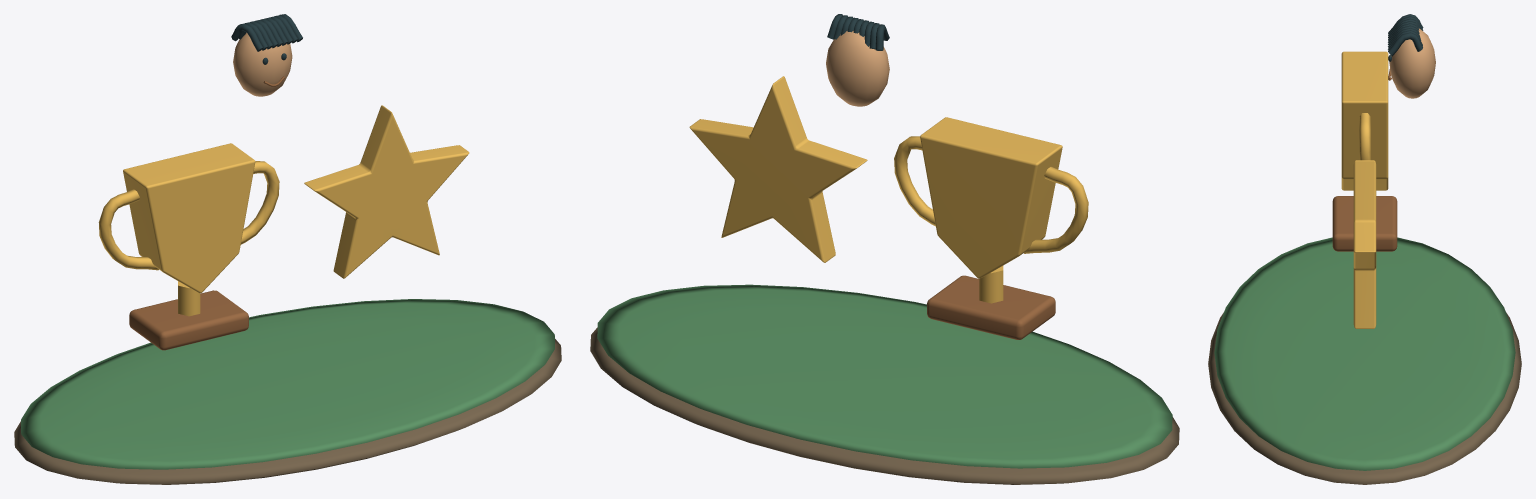
The model's file is complete-third-obtained-idea-pride.glb.
3 renders of one model, left to right at view 1: azimuth 30°, elevation 25°; view 2: azimuth 150°, elevation 25°; view 3: azimuth 270°, elevation 25°, orthographic. The views are drawn at different scales.
Visible parts, largest first — view 1: complete-third-obtained-idea-pride_surface_01, complete-third-obtained-idea-pride_surface_02, complete-third-obtained-idea-pride_surface_00, complete-third-obtained-idea-pride_surface_03, complete-third-obtained-idea-pride_surface_04, complete-third-obtained-idea-pride_surface_05; view 2: complete-third-obtained-idea-pride_surface_01, complete-third-obtained-idea-pride_surface_02, complete-third-obtained-idea-pride_surface_00, complete-third-obtained-idea-pride_surface_03, complete-third-obtained-idea-pride_surface_04, complete-third-obtained-idea-pride_surface_05; view 3: complete-third-obtained-idea-pride_surface_01, complete-third-obtained-idea-pride_surface_02, complete-third-obtained-idea-pride_surface_00, complete-third-obtained-idea-pride_surface_03, complete-third-obtained-idea-pride_surface_04, complete-third-obtained-idea-pride_surface_05.
Boxes of the visible parts, box(x1,y1,x2,y2) form: complete-third-obtained-idea-pride_surface_01: box(21, 299, 554, 469); complete-third-obtained-idea-pride_surface_02: box(98, 105, 469, 316); complete-third-obtained-idea-pride_surface_00: box(14, 339, 561, 484); complete-third-obtained-idea-pride_surface_03: box(129, 76, 284, 350); complete-third-obtained-idea-pride_surface_04: box(233, 32, 292, 96); complete-third-obtained-idea-pride_surface_05: box(231, 14, 302, 64); complete-third-obtained-idea-pride_surface_01: box(597, 284, 1172, 468); complete-third-obtained-idea-pride_surface_02: box(689, 76, 1088, 303); complete-third-obtained-idea-pride_surface_00: box(590, 327, 1179, 484); complete-third-obtained-idea-pride_surface_03: box(927, 275, 1055, 339); complete-third-obtained-idea-pride_surface_04: box(826, 31, 889, 106); complete-third-obtained-idea-pride_surface_05: box(827, 14, 889, 50); complete-third-obtained-idea-pride_surface_01: box(1214, 237, 1515, 470); complete-third-obtained-idea-pride_surface_02: box(1341, 51, 1388, 328); complete-third-obtained-idea-pride_surface_00: box(1208, 312, 1521, 484); complete-third-obtained-idea-pride_surface_03: box(1332, 69, 1397, 251); complete-third-obtained-idea-pride_surface_04: box(1389, 28, 1435, 98); complete-third-obtained-idea-pride_surface_05: box(1388, 14, 1423, 61).
Bounding box in the file's own units: 4.56 × 3.12 × 2.5.
